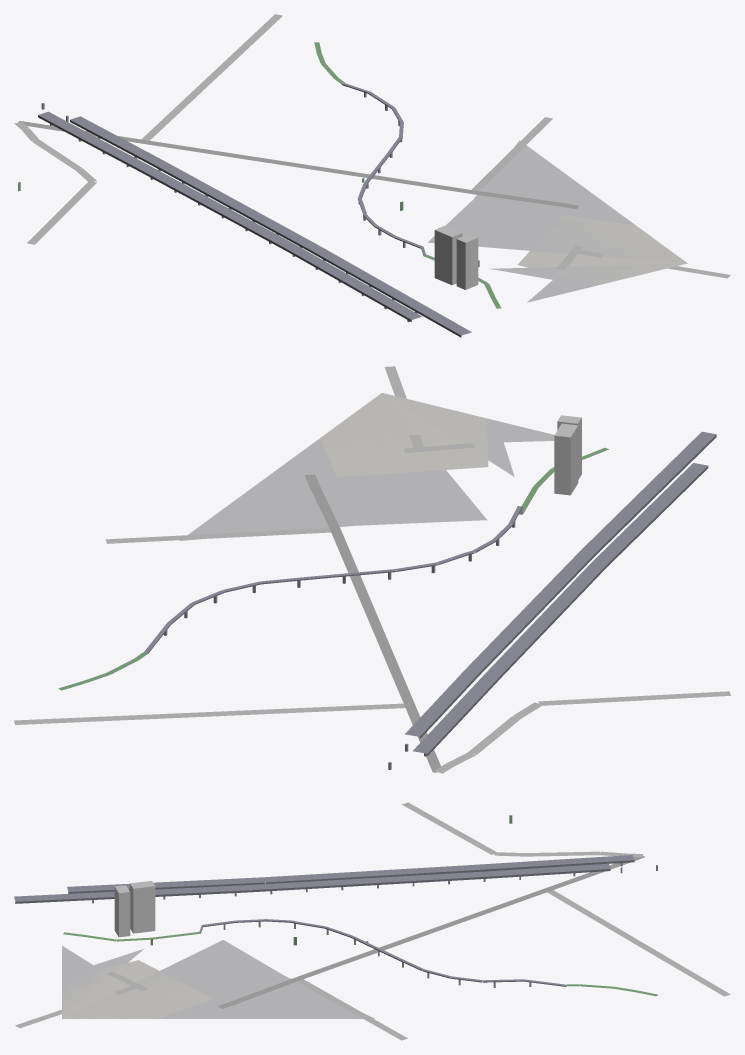
3 views of the same model, one above another, from view 1: azimuth 30°, elevation 25°; view 2: azimuth 150°, elevation 25°; view 3: azimuth 270°, elevation 25° (orthographic). The views are drawn at different scales.
Bounding box in the file's own units: 471 × 42.35 × 599.
